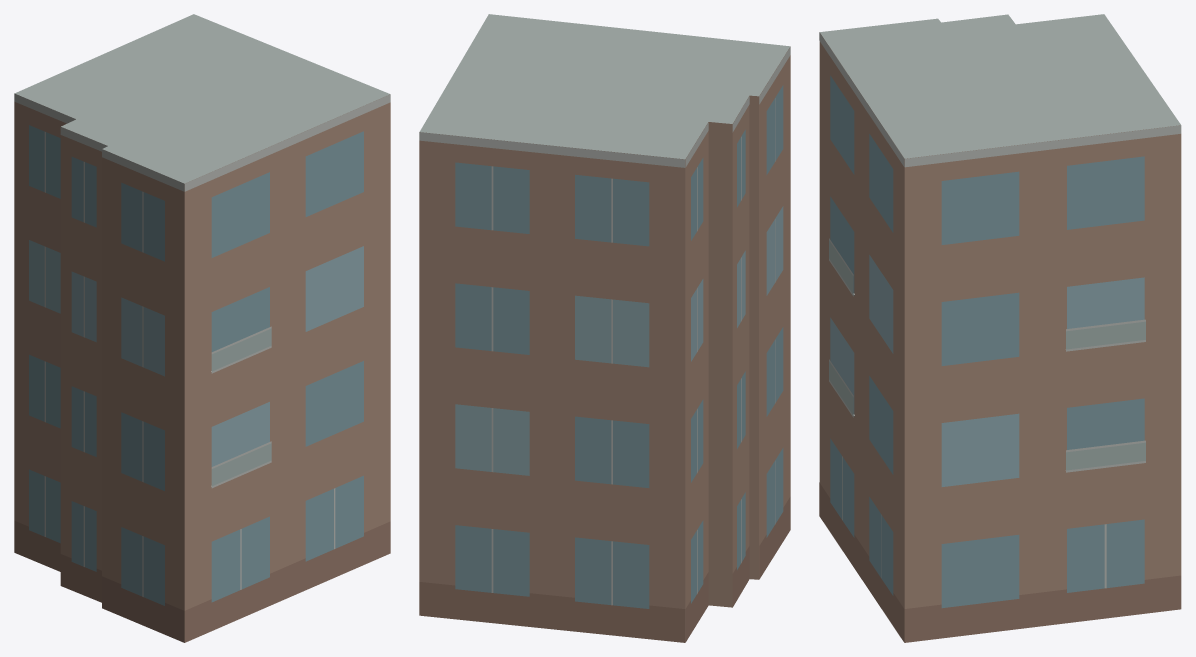
The model's file is survey-upis-32486918.glb.
3 views of the same model, side by side, from view 1: azimuth 30°, elevation 25°; view 2: azimuth 150°, elevation 25°; view 3: azimuth 270°, elevation 25° (orthographic). The views are drawn at different scales.
Visible parts, largest first — view 1: survey-upis-32486918.tmp; view 2: survey-upis-32486918.tmp; view 3: survey-upis-32486918.tmp.
Boxes of the visible parts, x1=… form: survey-upis-32486918.tmp: x1=14, y1=14, x2=390, y2=642; survey-upis-32486918.tmp: x1=419, y1=14, x2=790, y2=642; survey-upis-32486918.tmp: x1=819, y1=14, x2=1181, y2=642.
Bounding box in the file's own units: 8.79 × 13.7 × 9.29.
